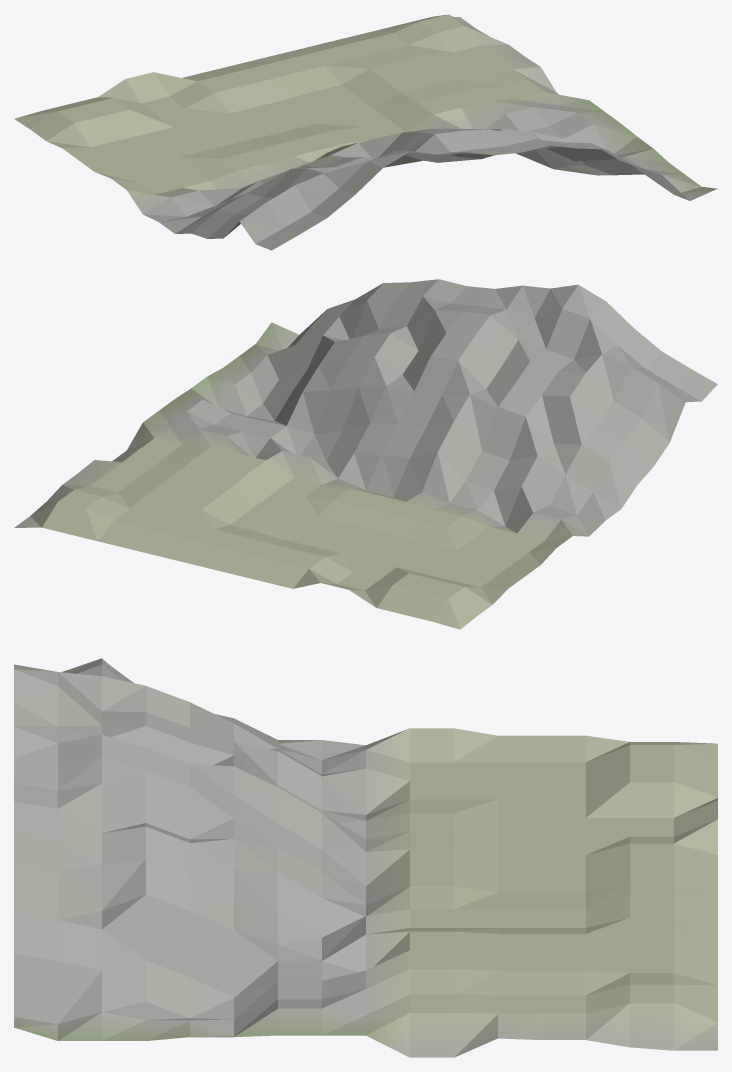
3 renders of one model, top to bottom at view 1: azimuth 30°, elevation 25°; view 2: azimuth 150°, elevation 25°; view 3: azimuth 270°, elevation 25°, orthographic. The views are drawn at different scales.
Bounding box in the file's own units: 32 × 9.23 × 32.
